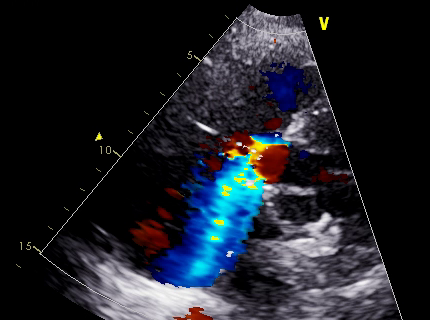TR: (188, 115, 292, 214)
